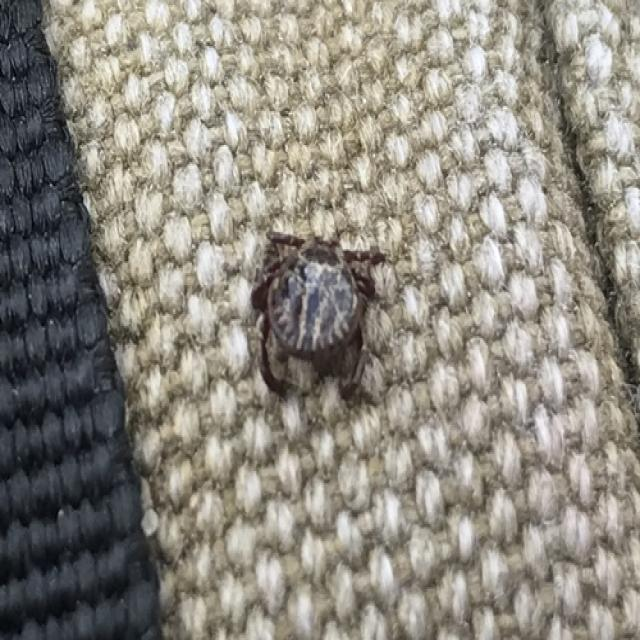Dermacentor Reticulatus-M: (252, 241, 375, 384)
